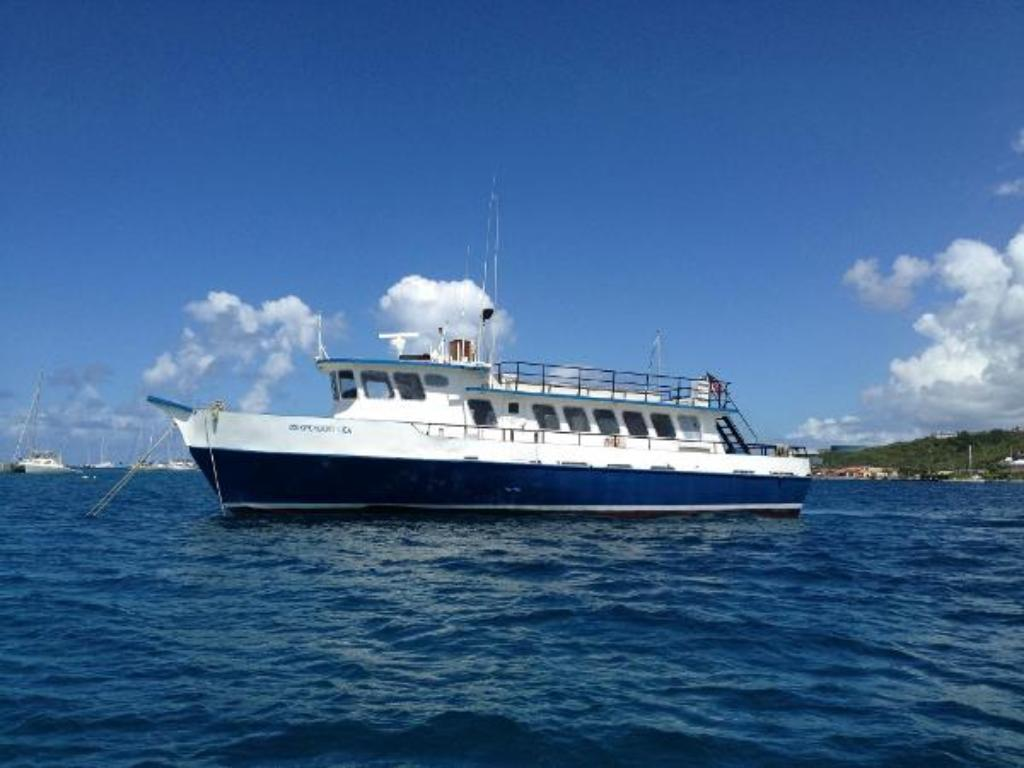PassengerShip: (99, 323, 823, 526)
